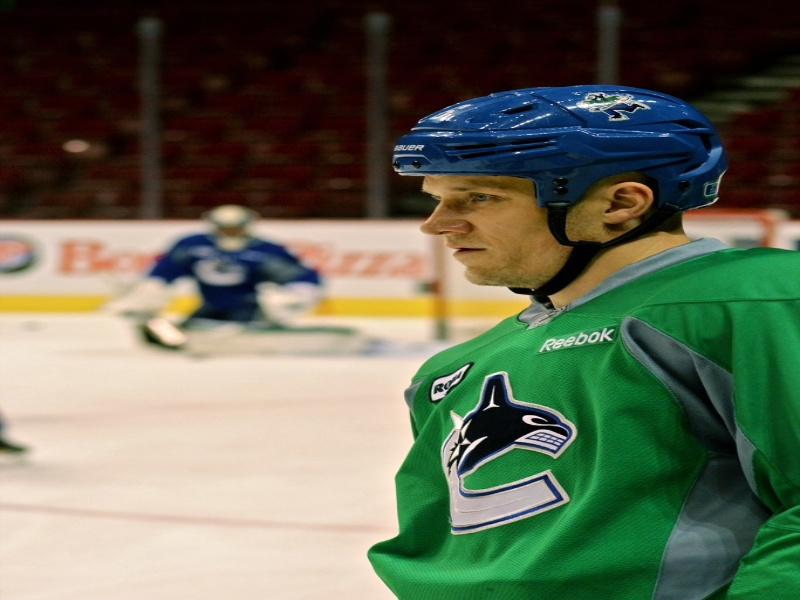Baret: (393, 84, 728, 212)
